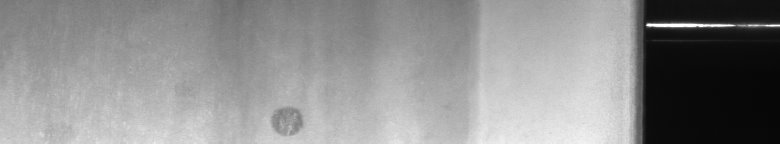fi: (265, 101, 304, 136)
